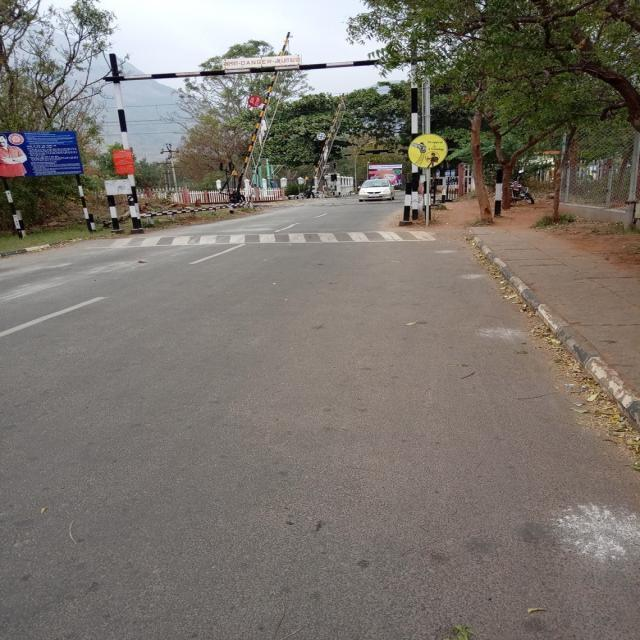speedbreaker: (84, 227, 442, 250)
